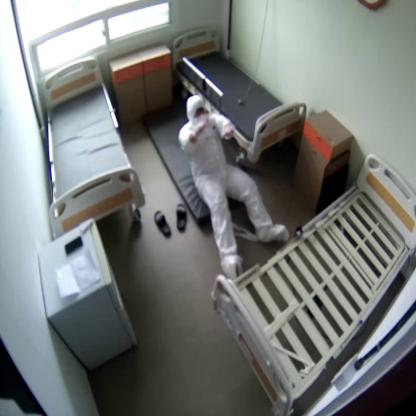Person: (178, 93, 287, 276)
